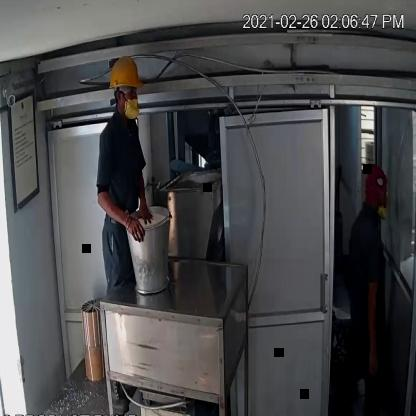helmet: (106, 54, 146, 90)
